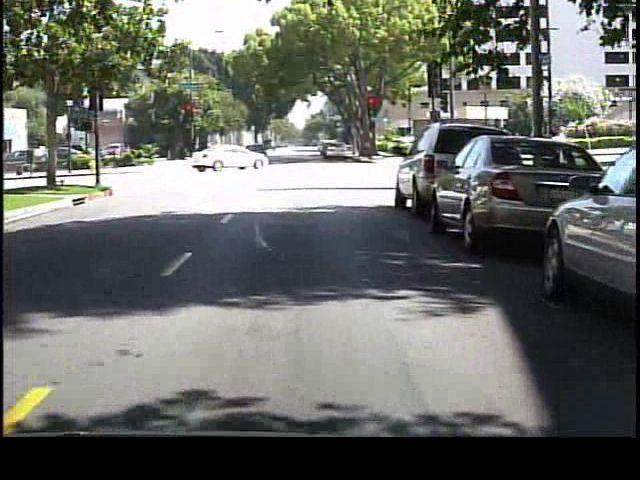person: (260, 140, 276, 171)
